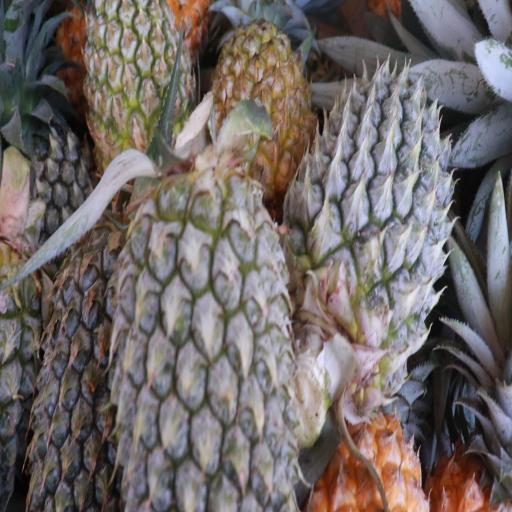------------------------------: (82, 2, 196, 162)
Pineapple - v8 v1: (208, 22, 310, 175)
